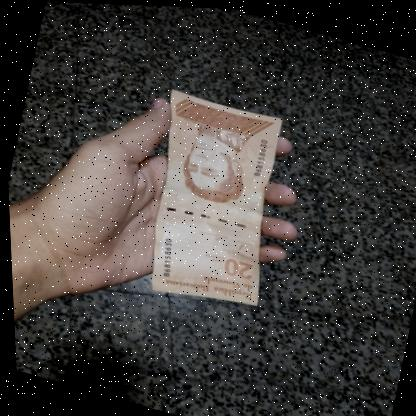twenty-front-vef: (121, 83, 300, 317)
